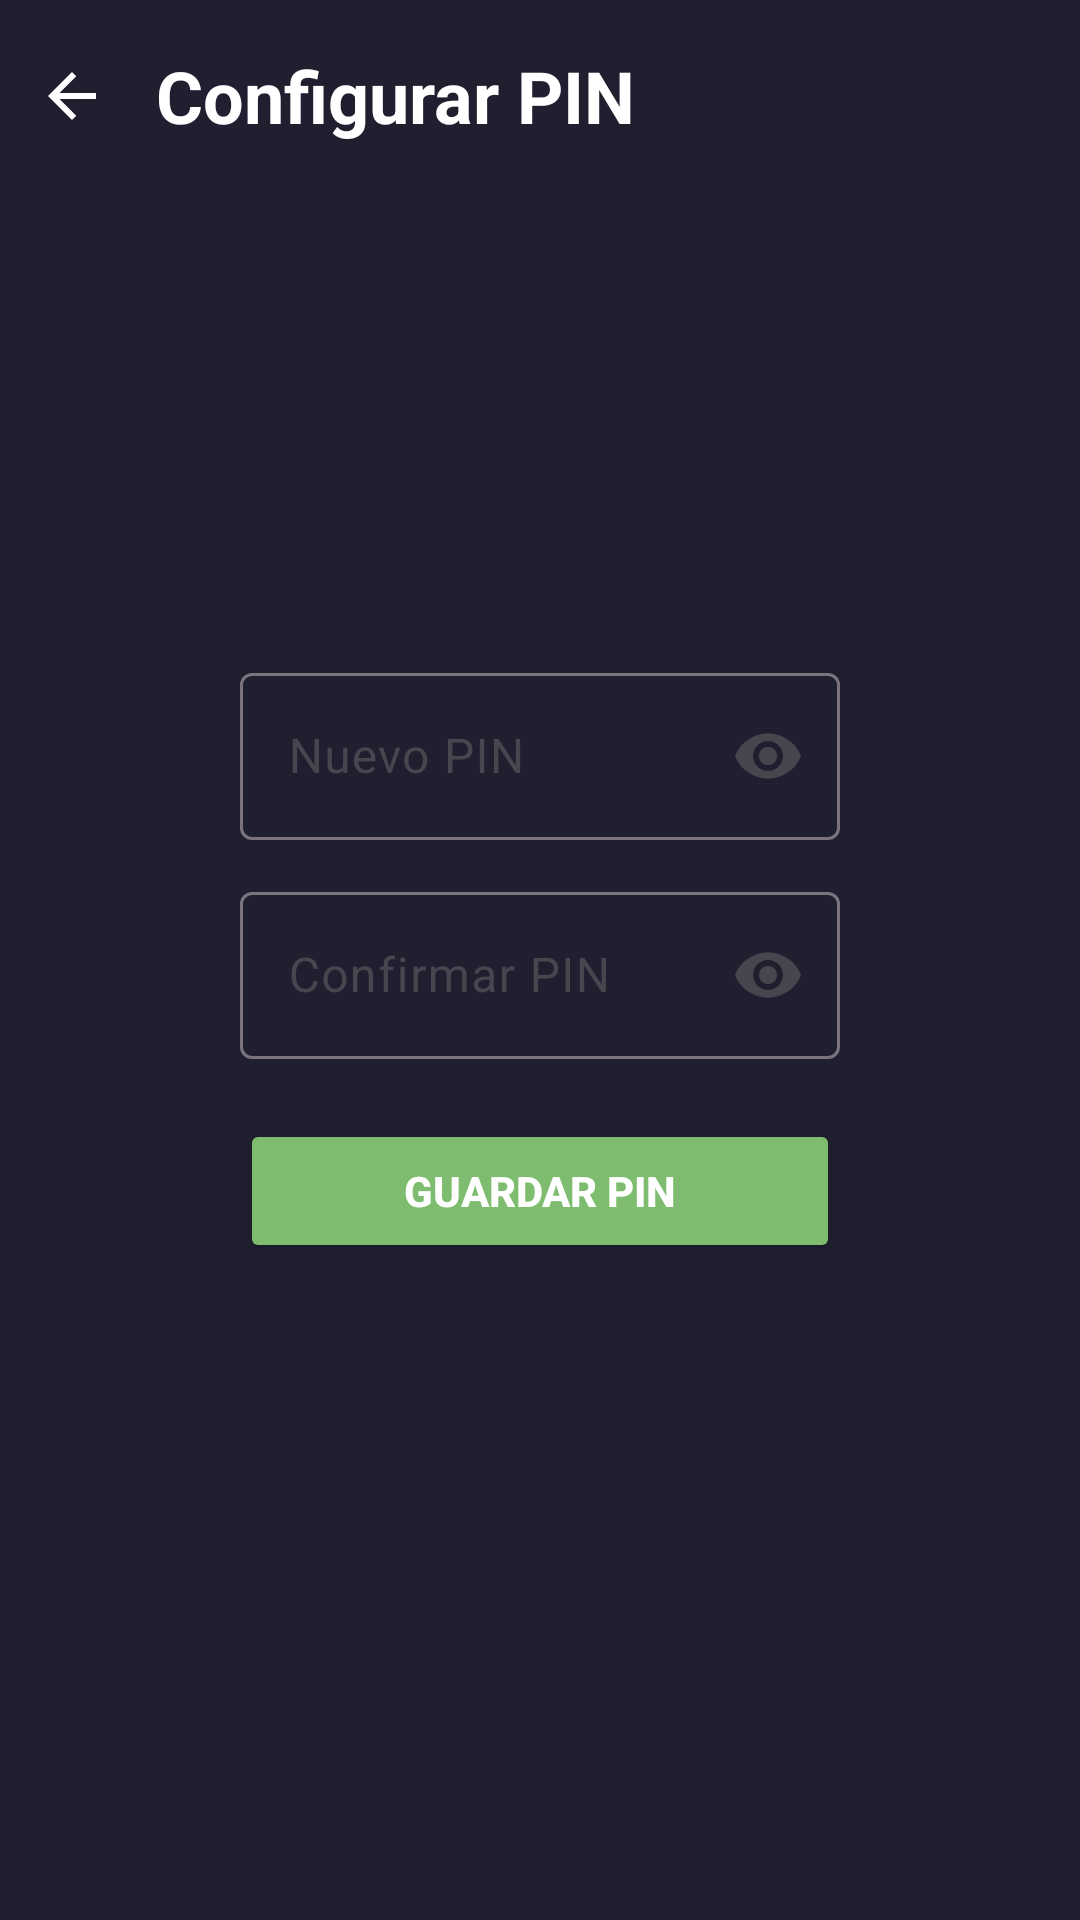

Point at icon controls on the screen. Image size 1080px x 1920px, points as [x,y].
Volver: [72,96]
